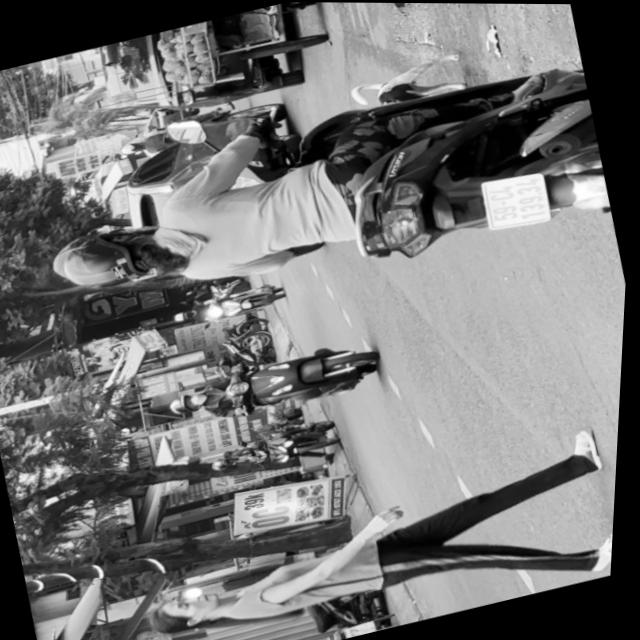helmet: (45, 213, 178, 301), (170, 388, 213, 416)
licenseplate: (23, 27, 621, 350), (163, 332, 389, 437)
nohelmet: (479, 169, 553, 232)
